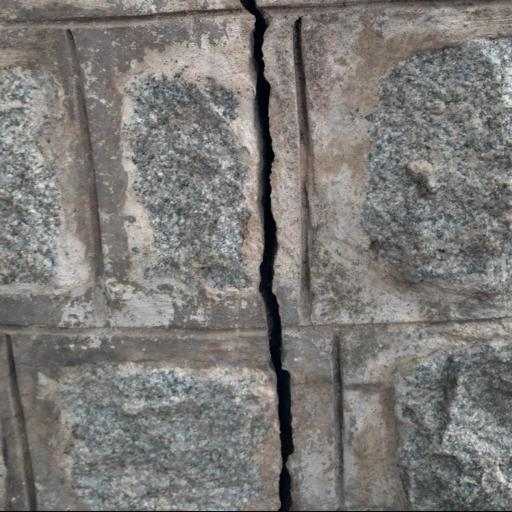major_crack: (218, 0, 309, 512)
